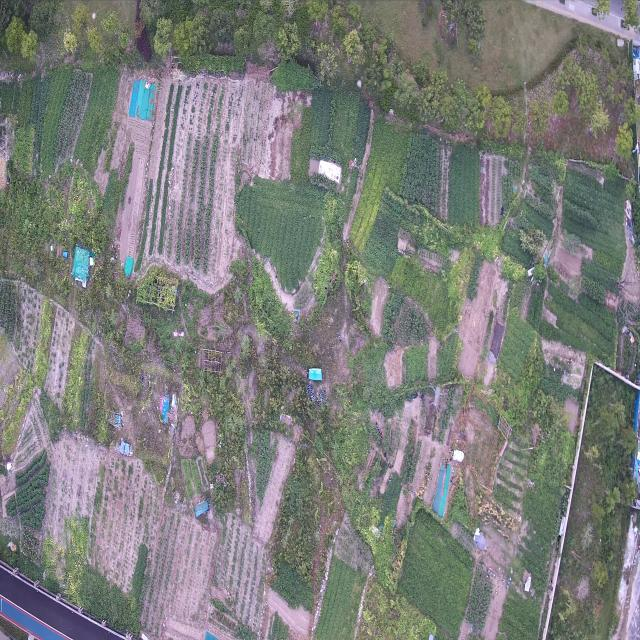UAV: (428, 381, 448, 415)
